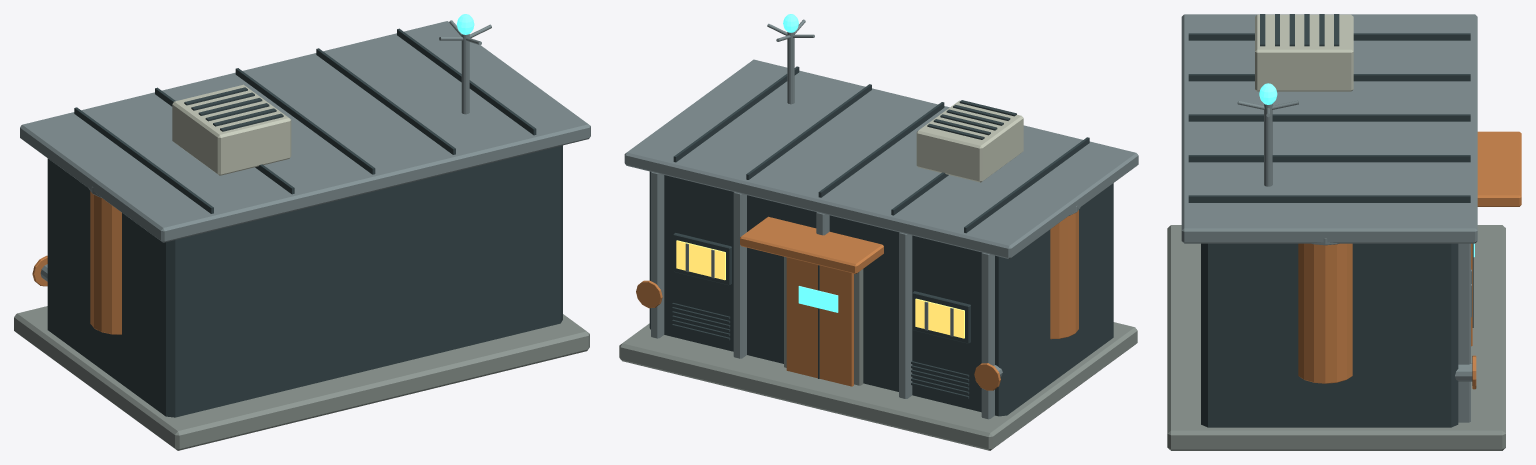
Rendered from pump_station.glb.
The picture shows the model from 3 angles, left to right: view 1: azimuth 30°, elevation 25°; view 2: azimuth 150°, elevation 25°; view 3: azimuth 270°, elevation 25°; orthographic projection. The views are drawn at different scales.
Visible parts, largest first — view 1: pump_station_Surface; view 2: pump_station_Surface; view 3: pump_station_Surface.
Boxes of the visible parts, box(x1,y1,x2,y2) form: pump_station_Surface: box(14, 14, 590, 450); pump_station_Surface: box(619, 14, 1138, 450); pump_station_Surface: box(1167, 14, 1521, 450).
Size of the model in its own units: 7.26 by 5.16 by 5.02.
Materials: 1 (1 with a texture image).
